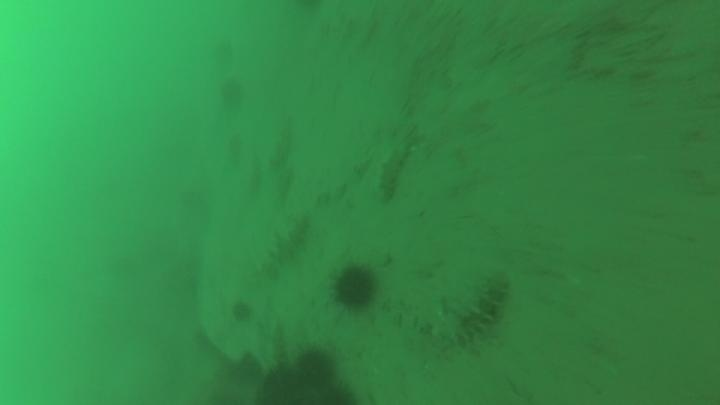echinus: (256, 360, 319, 404), (329, 261, 380, 313), (293, 345, 339, 389), (216, 75, 248, 111), (228, 298, 256, 325)
holothurian: (440, 273, 521, 357), (256, 211, 313, 279), (373, 139, 415, 206)
